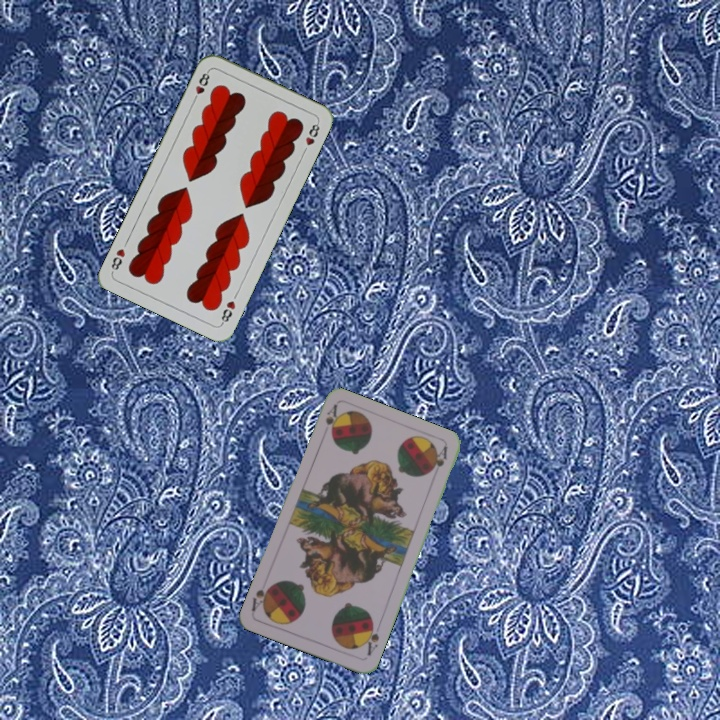H8: (189, 67, 212, 105), (217, 296, 238, 327)
SA: (360, 618, 382, 658), (321, 401, 340, 436)
